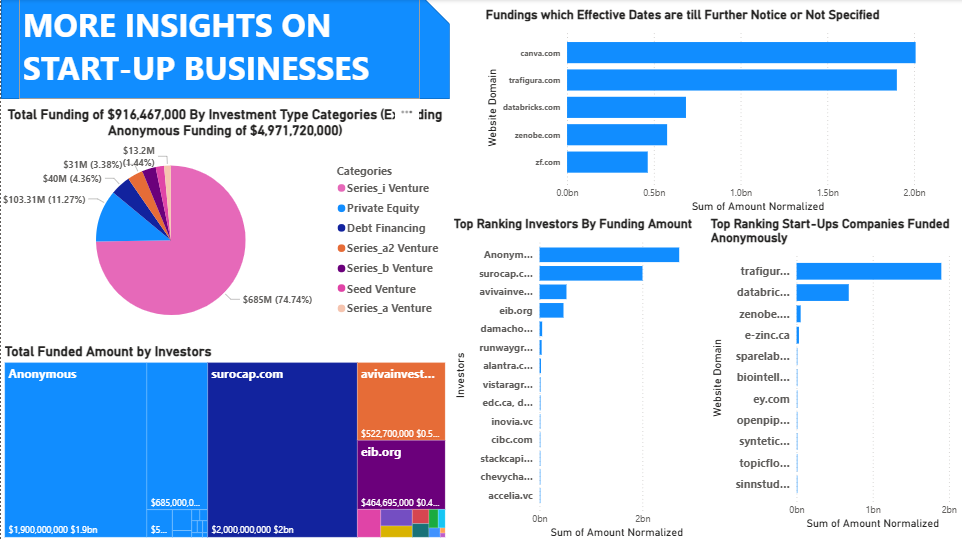

The dashboard page shown, as its layout file describes it:
{"tool":"powerbi","page":{"name":"More Insights","canvas":[1280,720],"ordinal":1},"visuals":[{"type":"pieChart","title":"Total Funding of $916,467,000 By Investment Type Categories (Excluding Anonymous Funding of $4,971,720,000)","fields":{"Category":["Cleaned_Business_Funding_Dataset.Categories"],"Y":["Sum(Cleaned_Business_Funding_Dataset.Amount Normalized)"]},"box":[0,142.1,595.1,314.8],"z":0},{"type":"clusteredBarChart","title":"Top Ranking Start-Ups Companies Funded Anonymously","fields":{"Category":["Cleaned_Business_Funding_Dataset.Website Domain"],"Y":["Sum(Cleaned_Business_Funding_Dataset.Amount Normalized)"]},"box":[937.9,288.3,341.4,421.1],"z":1000},{"type":"clusteredBarChart","title":"Top Ranking Investors By Funding Amount","fields":{"Category":["Cleaned_Business_Funding_Dataset.Investors"],"Y":["Sum(Cleaned_Business_Funding_Dataset.Amount Normalized)"]},"box":[596.5,288.3,340.1,433.1],"z":2000},{"type":"clusteredBarChart","title":"Fundings which Effective Dates are till Further Notice or Not Specified","fields":{"Category":["Cleaned_Business_Funding_Dataset.Website Domain"],"Y":["Sum(Cleaned_Business_Funding_Dataset.Amount Normalized)"]},"box":[639,10.6,640.3,277.6],"z":3000},{"type":"shape","box":[0,0,596.5,132.8],"z":4000},{"type":"textbox","box":[23.9,0,532.7,132.8],"z":5000},{"type":"treemap","title":"Total Funded Amount by Investors","fields":{"Values":["Sum(Cleaned_Business_Funding_Dataset.Amount Normalized)"],"Group":["Cleaned_Business_Funding_Dataset.Investors"],"Details":["Cleaned_Business_Funding_Dataset.Amount Normalized"]},"box":[0,457,595.1,263],"z":5001}]}

Visuals, with their boxes in screenshot pixels (x1, y1, x2, y2), scaled from the page's 1280x720 canvas onto the 962x540 screenshot:
"Total Funding of $916,467,000 By Investment Type Categories (Excluding Anonymous Funding of $4,971,720,000)" pieChart: <box>0,107,447,343</box>
"Top Ranking Start-Ups Companies Funded Anonymously" clusteredBarChart: <box>705,216,961,532</box>
"Top Ranking Investors By Funding Amount" clusteredBarChart: <box>448,216,704,539</box>
"Fundings which Effective Dates are till Further Notice or Not Specified" clusteredBarChart: <box>480,8,961,216</box>
shape: <box>0,0,448,100</box>
textbox: <box>18,0,418,100</box>
"Total Funded Amount by Investors" treemap: <box>0,343,447,539</box>
